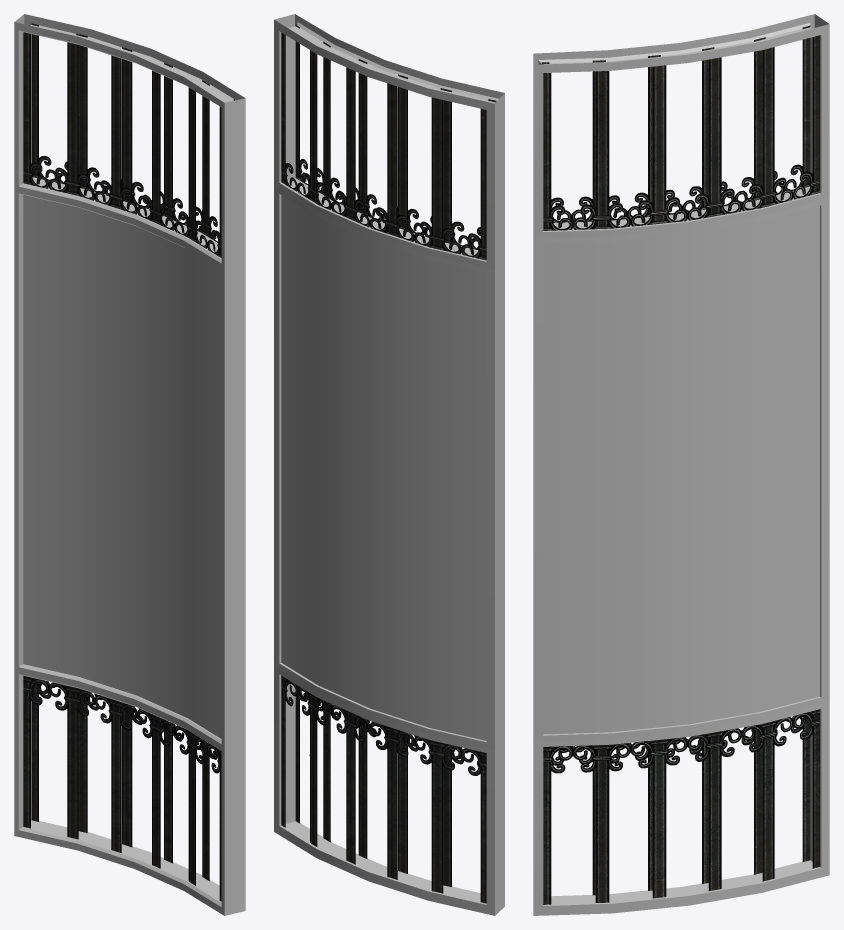
The model's file is elevator_door_right.dae.
3 renders of one model, left to right at view 1: azimuth 30°, elevation 25°; view 2: azimuth 210°, elevation 25°; view 3: azimuth 270°, elevation 25°, orthographic. The views are drawn at different scales.
Parts seen in each view (by area): view 1: elevator_door_right_transparent, elevator_door_right_frame, elevator_door_right_bars; view 2: elevator_door_right_transparent, elevator_door_right_frame, elevator_door_right_bars; view 3: elevator_door_right_transparent, elevator_door_right_bars, elevator_door_right_frame.
Boxes of the visible parts, left/top/right/bottom form: elevator_door_right_transparent: left=23, top=195, right=221, bottom=738; elevator_door_right_frame: left=14, top=14, right=245, bottom=915; elevator_door_right_bars: left=23, top=23, right=234, bottom=901; elevator_door_right_transparent: left=281, top=195, right=486, bottom=740; elevator_door_right_frame: left=274, top=14, right=504, bottom=915; elevator_door_right_bars: left=281, top=25, right=496, bottom=903; elevator_door_right_transparent: left=543, top=205, right=819, bottom=734; elevator_door_right_bars: left=541, top=25, right=819, bottom=904; elevator_door_right_frame: left=533, top=14, right=829, bottom=915.
Size of the model in its own units: 38.82 by 313 by 98.49.
